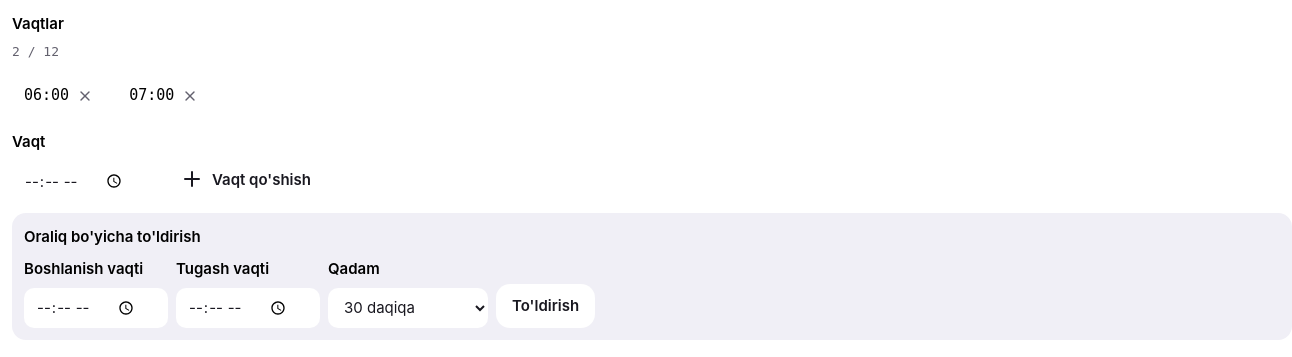
dublikat va tartib › vaqtni olib tashlash mumkin
The width and height of the screenshot is (1292, 357).
Click the button named "Vaqtni olib tashlash 07:00".
click(190, 96)  # box 178,84 -> 202,108
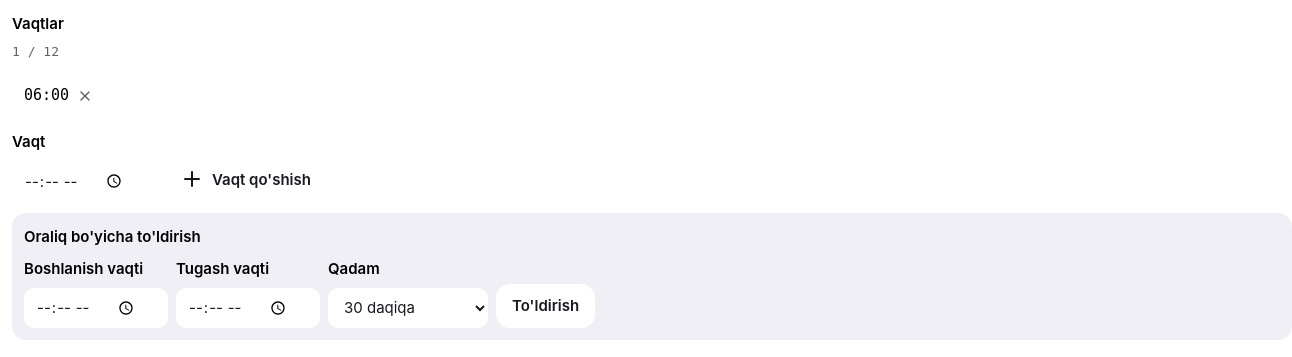
Check: the text "06:00" is shown, box 24,84 -> 69,108
Check: the text "07:00" is gone
